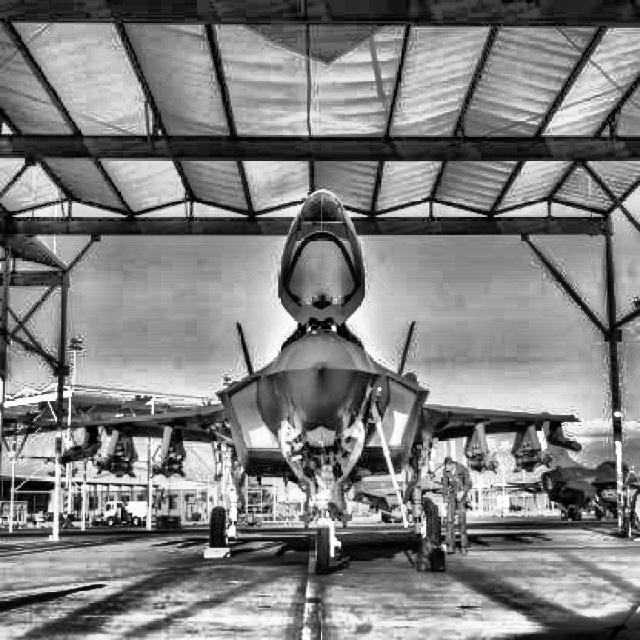F16: (506, 411, 637, 520), (344, 462, 445, 524), (501, 497, 525, 512), (542, 496, 560, 510)
F35: (57, 190, 581, 576)
